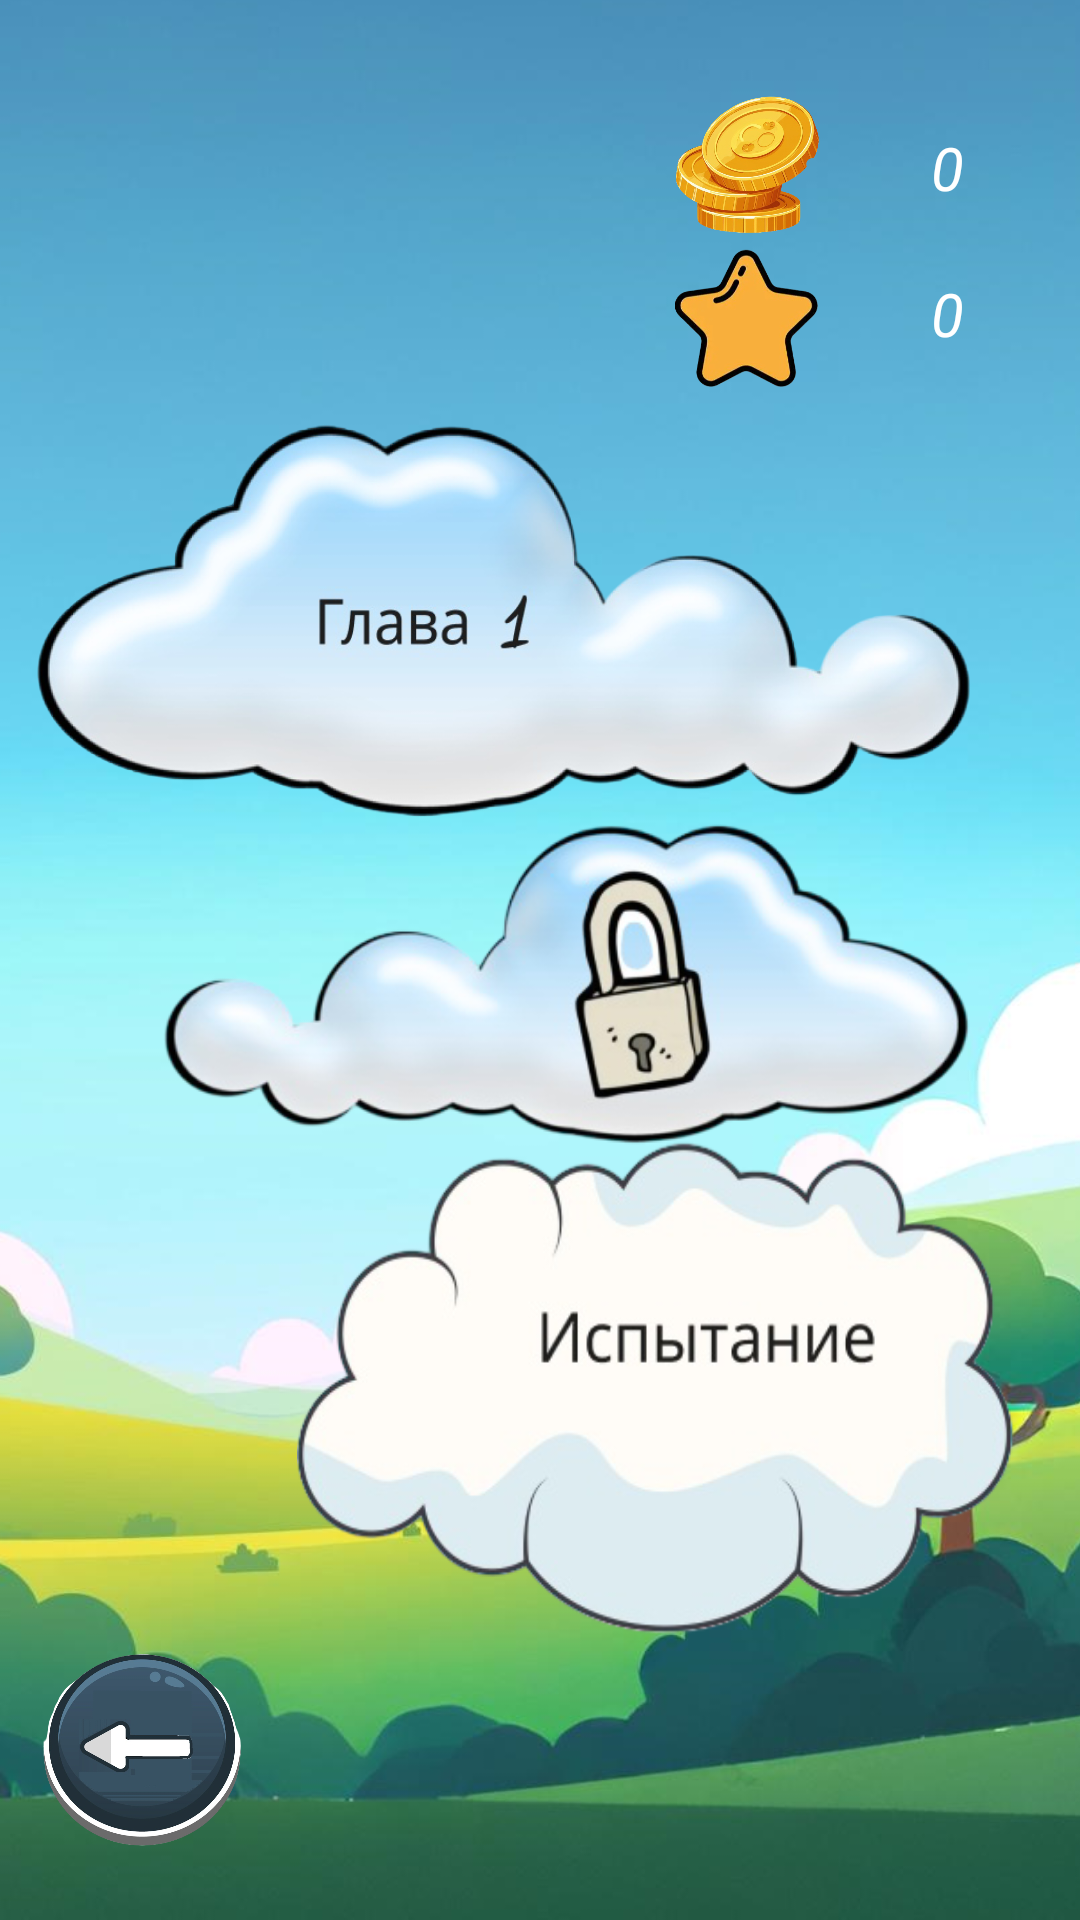

Screen size 1080px x 1920px. Icon name, then its center in pixels as point (x, y):
coins: point (747, 164)
star: point (746, 318)
